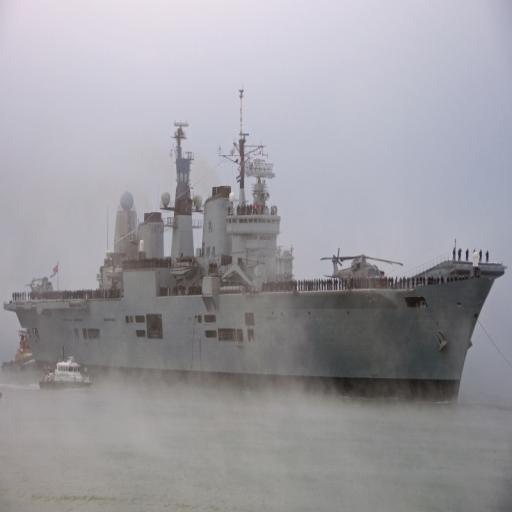Portanaves: (2, 93, 511, 410)
